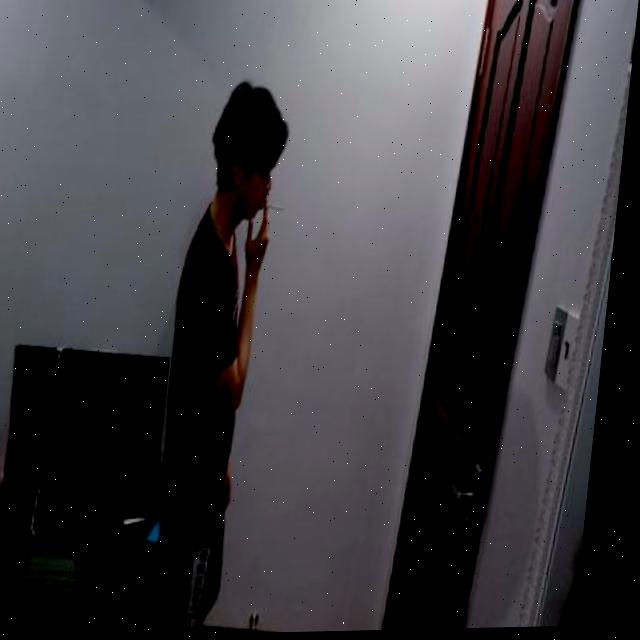cigarette: (271, 205, 290, 214)
